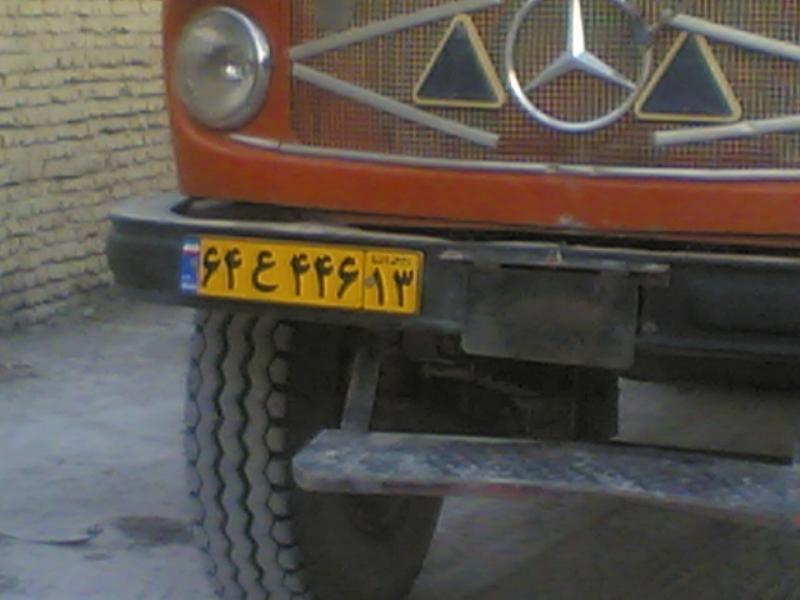Plate: (178, 241, 439, 306)
